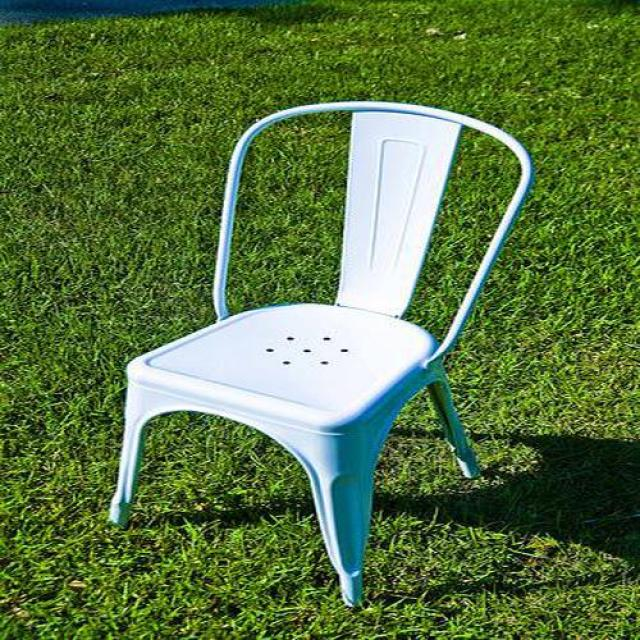chair: (109, 102, 536, 611)
